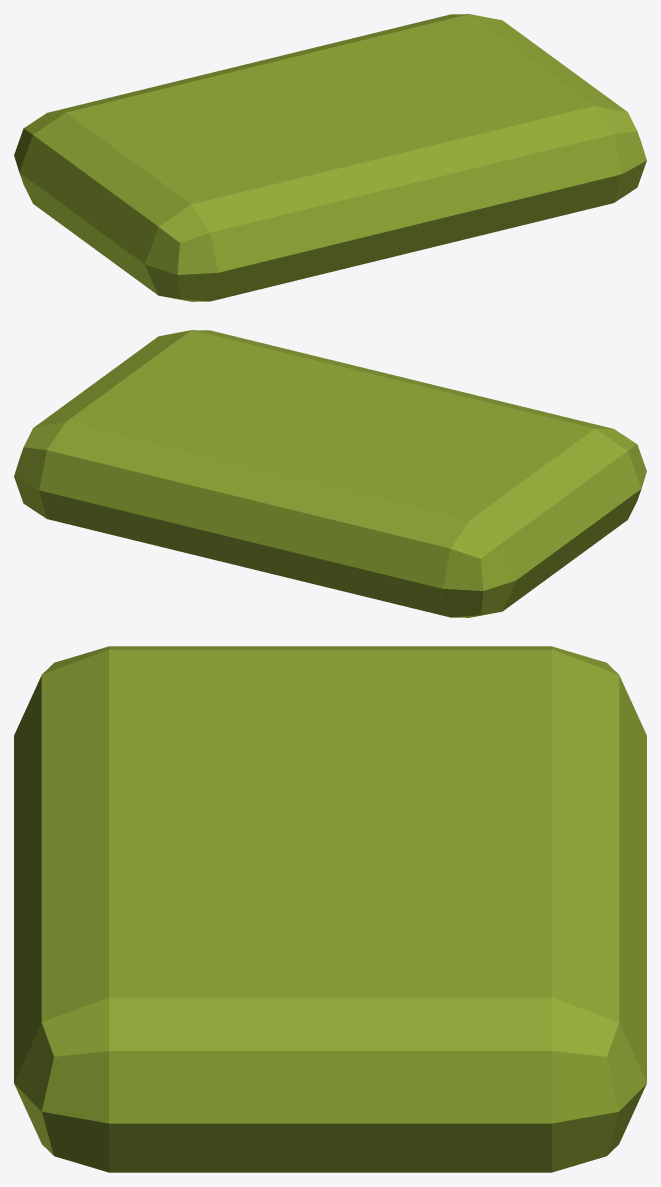
File: fx_leaf.glb
3 renders of one model, top to bottom at view 1: azimuth 30°, elevation 25°; view 2: azimuth 150°, elevation 25°; view 3: azimuth 270°, elevation 25°, orthographic. The views are drawn at different scales.
Visible parts, largest first — view 1: fx_leaf; view 2: fx_leaf; view 3: fx_leaf.
Part boxes in pixels (x1,y1,x2,y2): fx_leaf: (14,14,646,301); fx_leaf: (14,330,646,617); fx_leaf: (14,646,646,1172).
Size of the model in its own units: 0.08 by 0.015 by 0.05.
